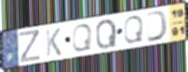D: (145, 9, 170, 44)
K: (44, 26, 63, 58)
Q: (95, 18, 119, 51), (71, 23, 94, 53), (123, 14, 145, 45)
Z: (18, 29, 42, 65)
